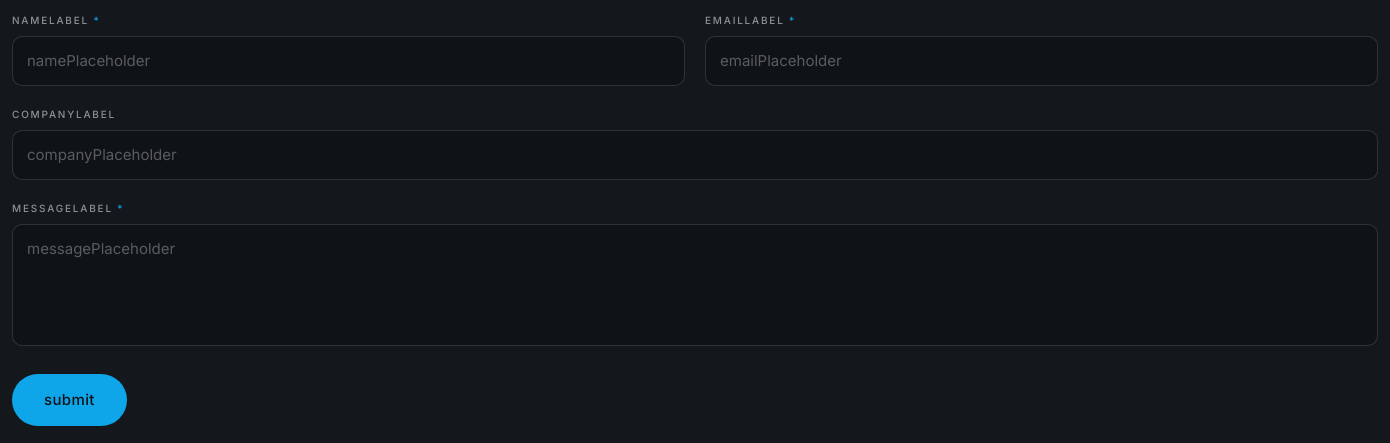
Test case: ContactForm › disables submit button during submission
Type "María" into the field labelled "nameLabel *" at (348, 61), box [12,36,685,86]
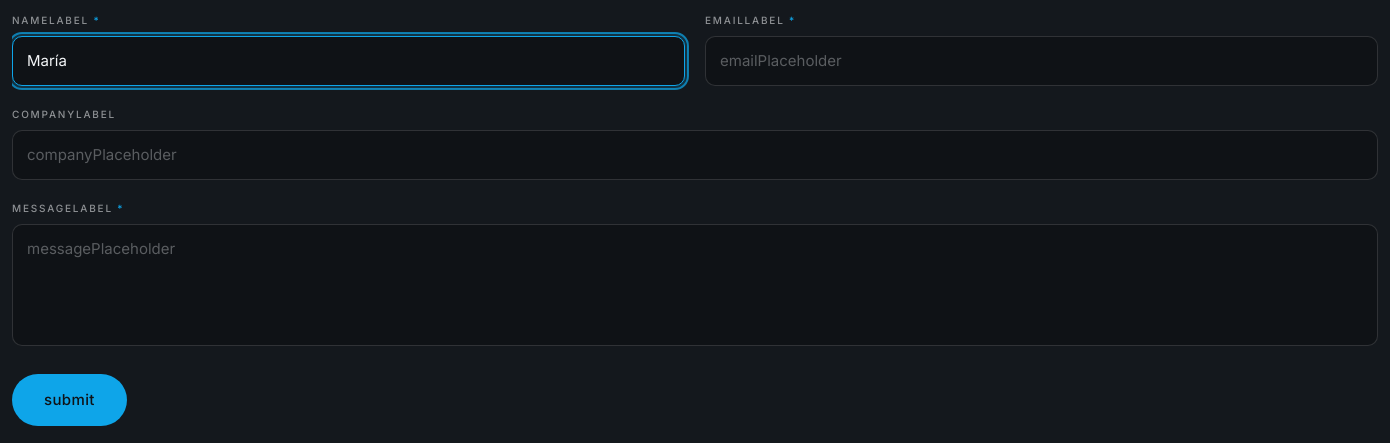
Type "maria@example.com" into the field labelled "emailLabel *" at (1042, 61), box [705,36,1378,86]
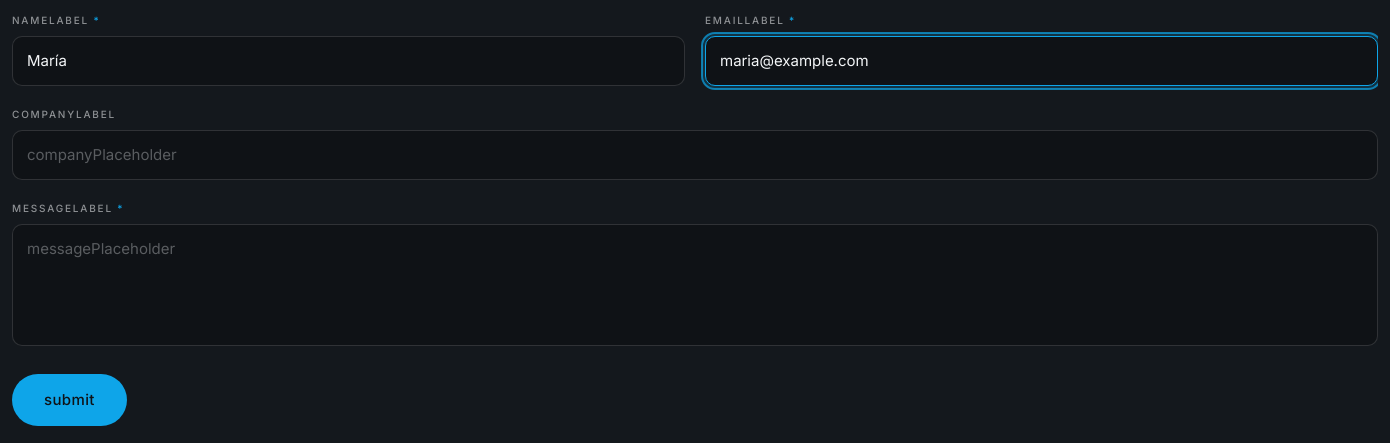
Type "I would like to discuss a partnership opportunity" into the text box labelled "messageLabel *" at (695, 285), box [12,224,1378,346]
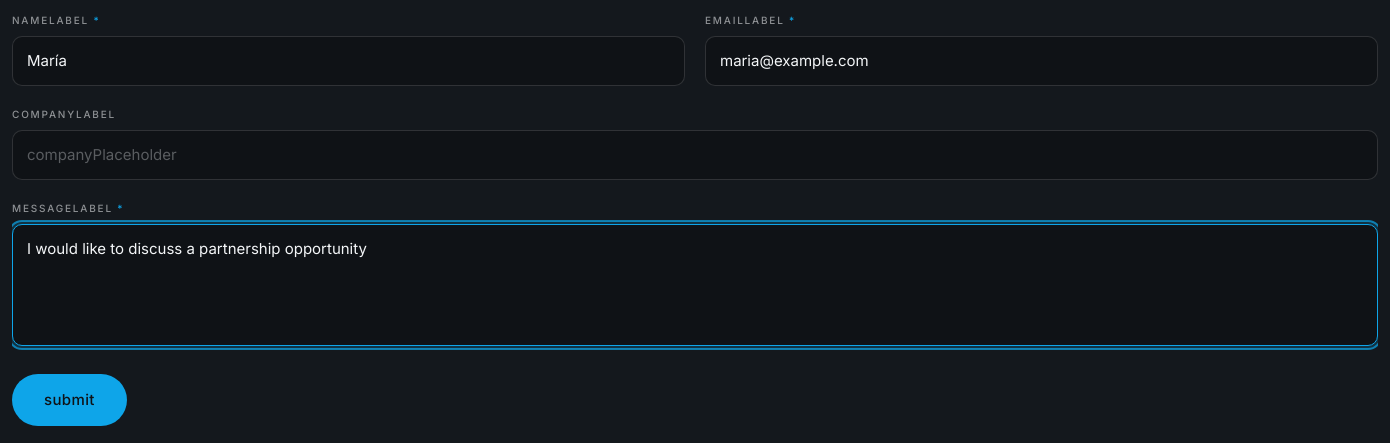
Click the button "submit" at (69, 400), box [12,374,127,426]
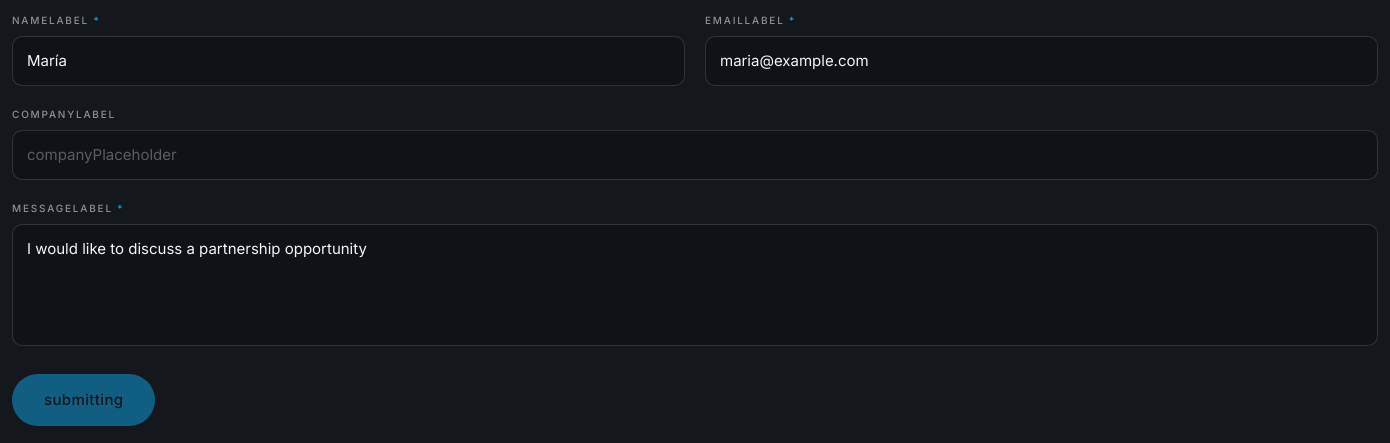
Expected: the button is disabled, [12,374,156,426]
